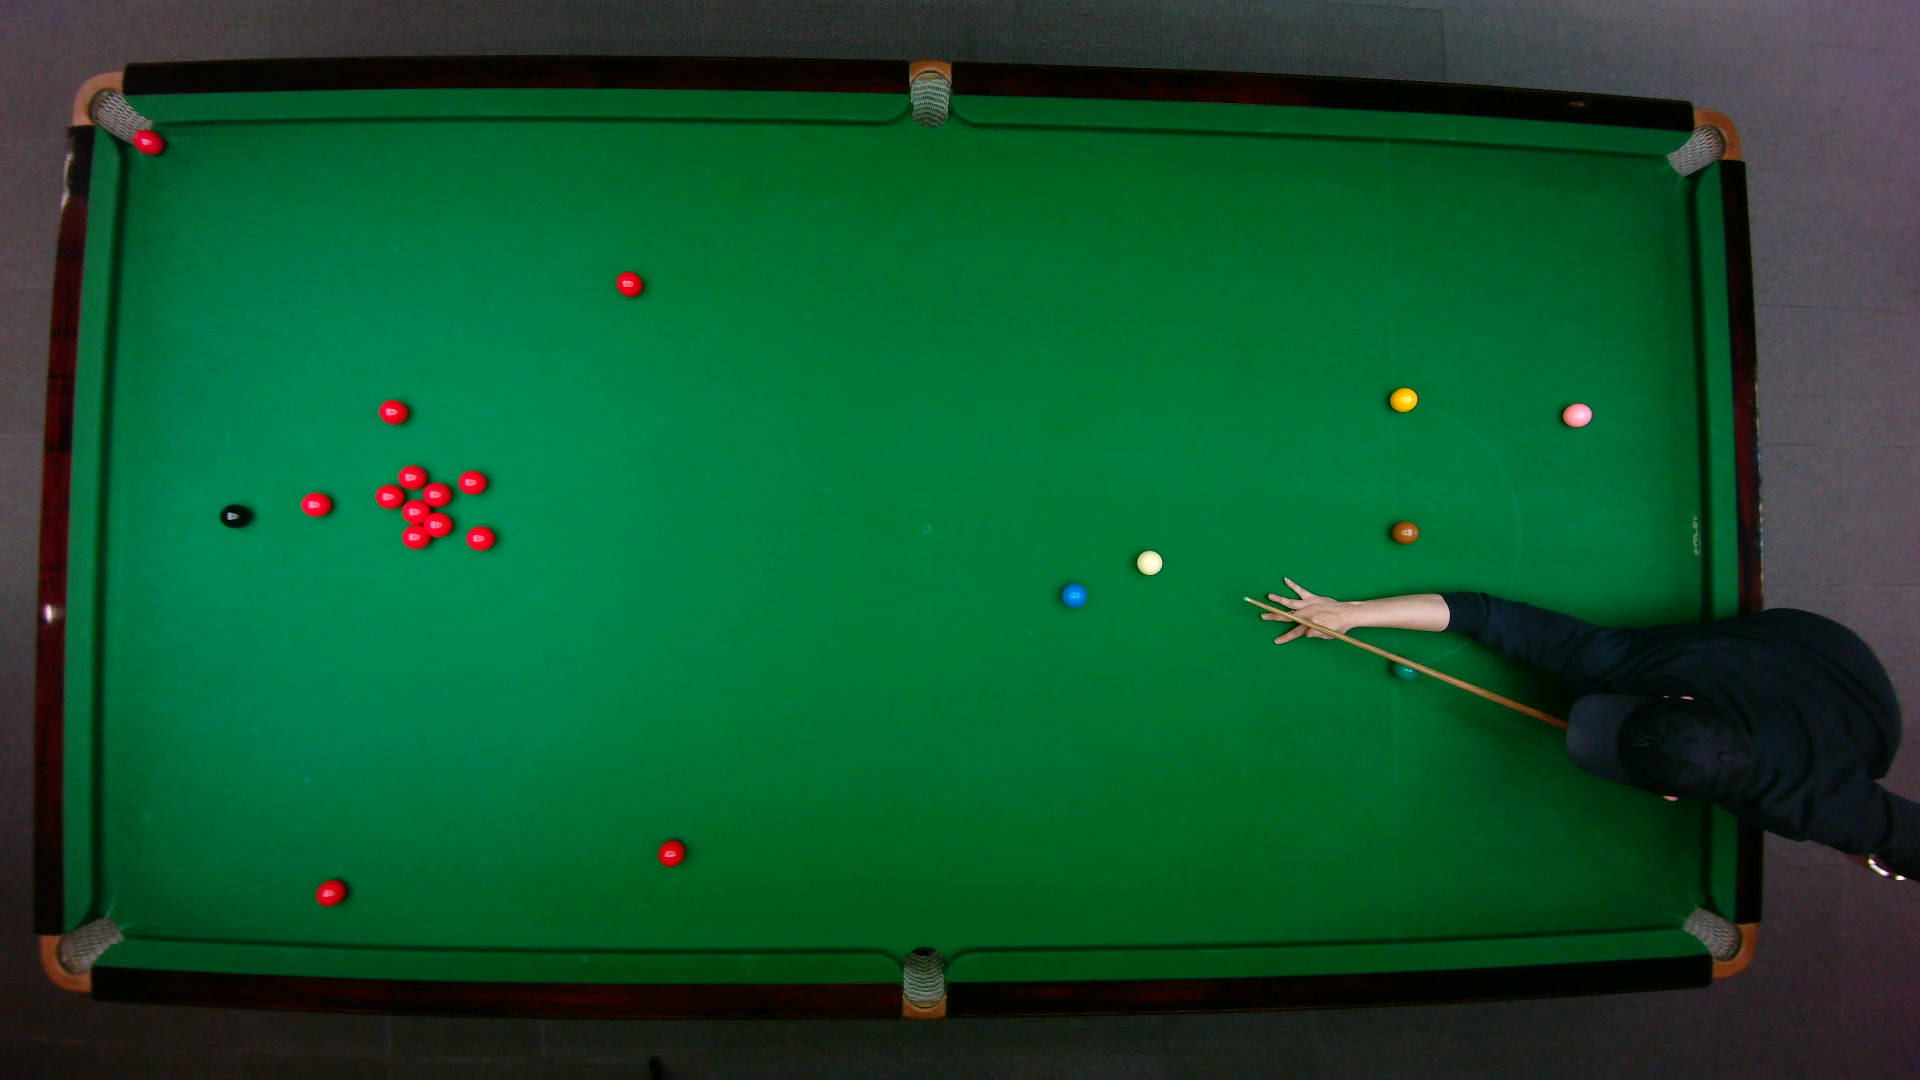bag: (37, 914, 125, 992), (69, 69, 153, 145), (1677, 905, 1756, 978), (1663, 107, 1741, 177), (901, 944, 944, 1021), (909, 57, 949, 128)
black: (218, 502, 251, 529)
blue: (1060, 582, 1087, 608)
brown: (1389, 520, 1419, 545)
cue: (1241, 593, 1567, 728)
pink: (1560, 401, 1593, 427)
red: (313, 877, 345, 907), (396, 462, 429, 491), (131, 127, 164, 156), (298, 489, 332, 517), (464, 524, 496, 551), (419, 480, 452, 506), (373, 483, 406, 509), (655, 837, 684, 866), (422, 510, 452, 538), (615, 269, 644, 297), (400, 524, 430, 550), (377, 398, 407, 425), (456, 468, 487, 495), (400, 497, 429, 524)
white: (1135, 549, 1163, 575)
yellow: (1387, 385, 1418, 411)
zone: (1386, 405, 1523, 599)
